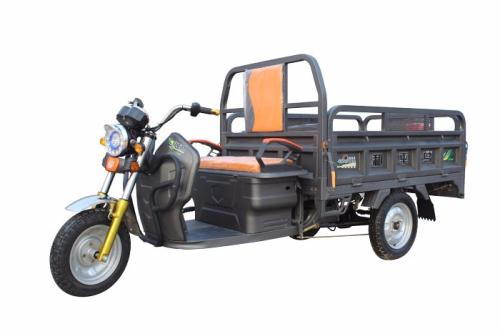tricycle: (53, 59, 467, 308)
